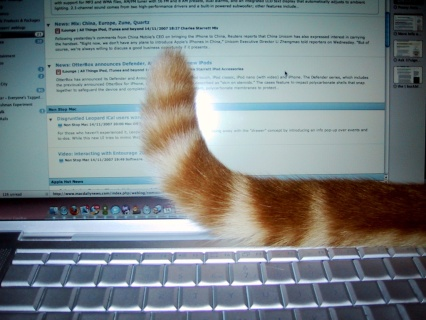Cat: (138, 45, 426, 246)
